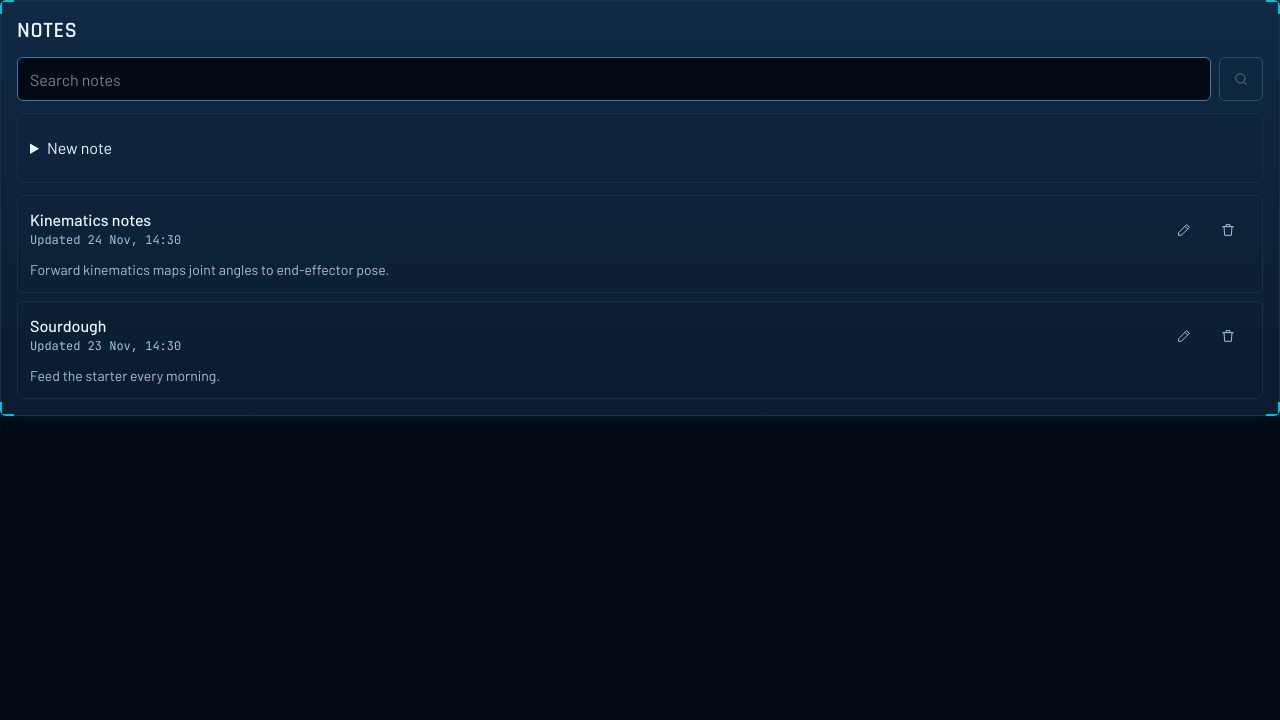
note board (M2-8b) › clearing the search restores the full list
Step 1. Type "kinematics" into the search field labelled "Search notes" → (614, 79), box top-left (17, 57), bottom-right (1211, 101)
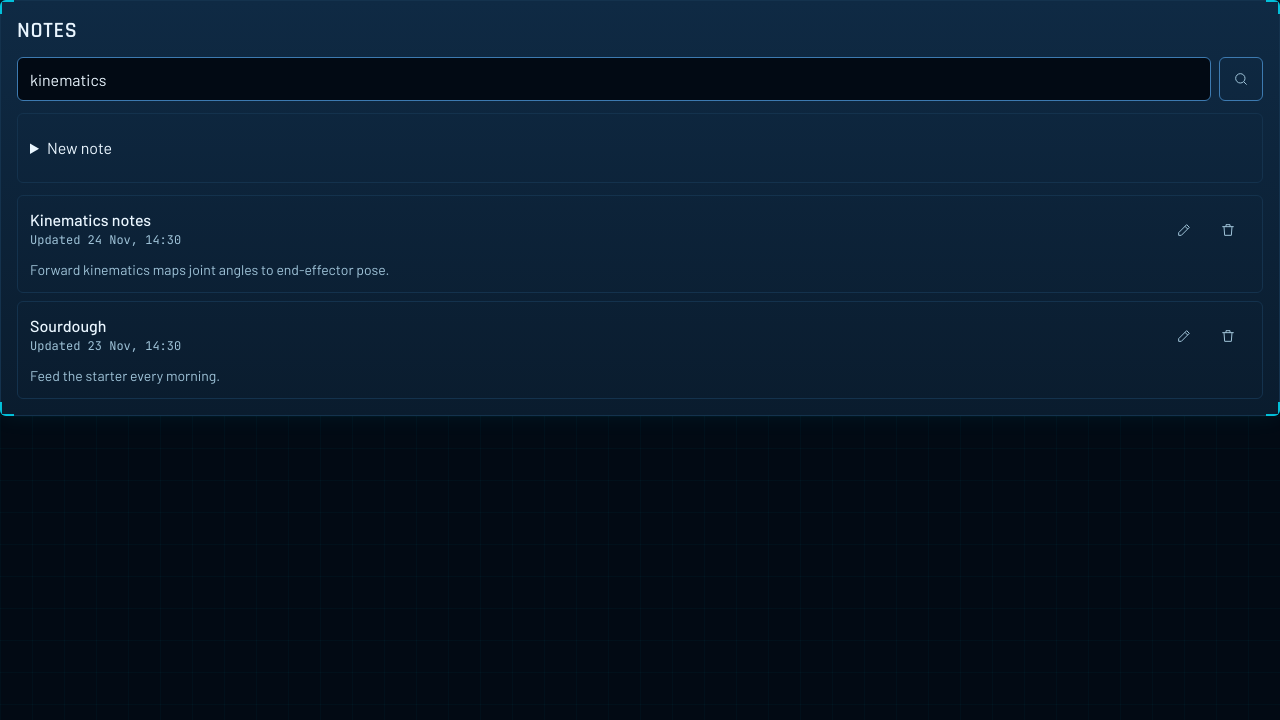
Step 2. Click the button named "Search" → (1241, 79), box top-left (1219, 57), bottom-right (1263, 101)
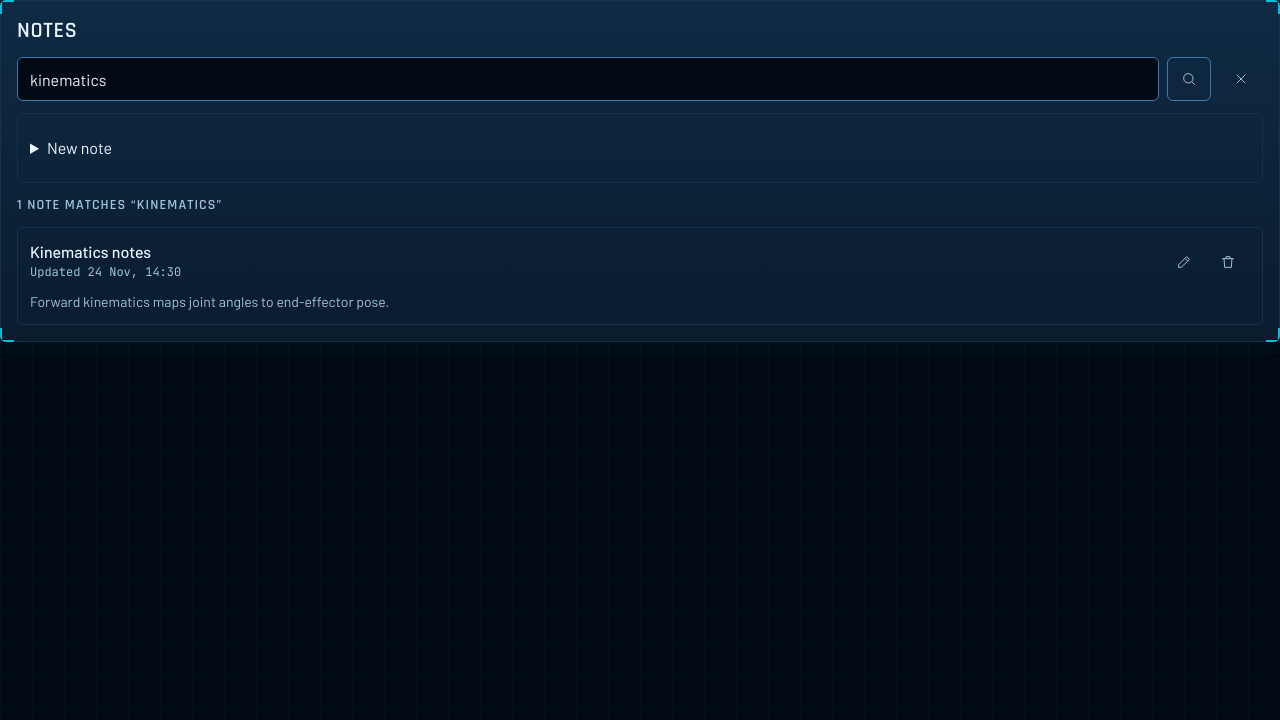
Result: the heading "Sourdough" is gone
Step 3. Click the button named "Clear search" → (1241, 79), box top-left (1219, 57), bottom-right (1263, 101)
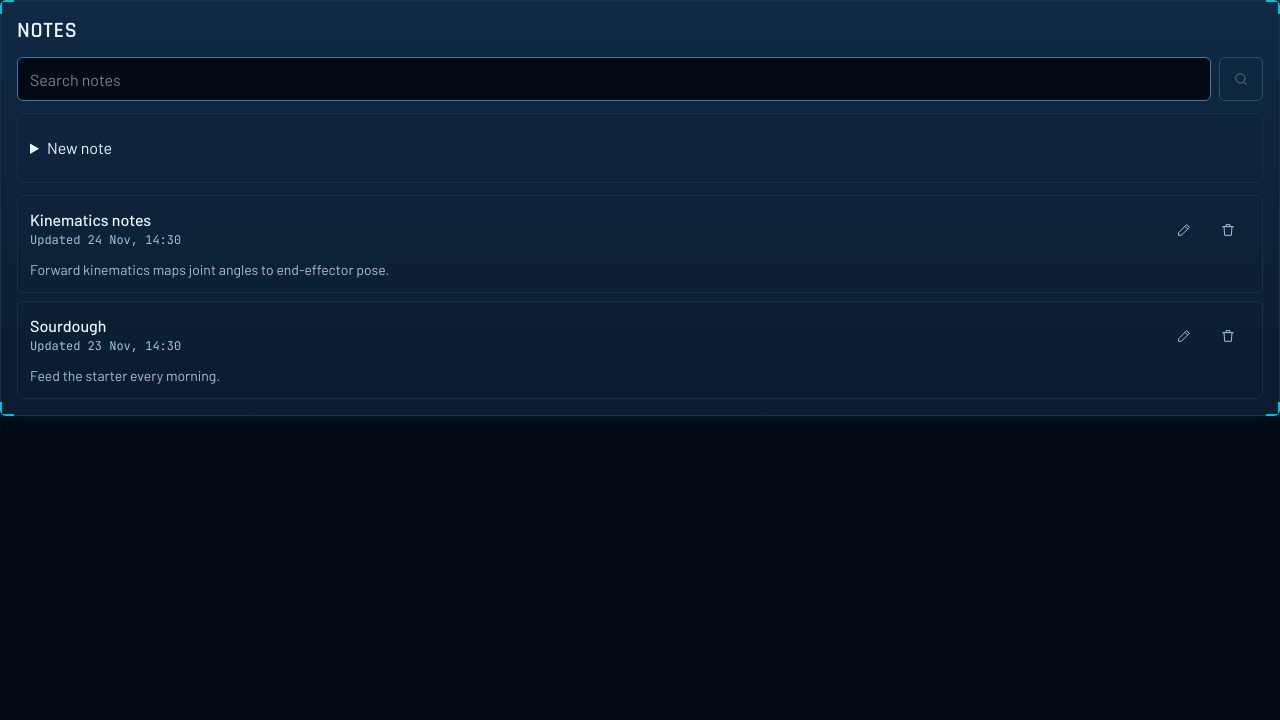
Result: the heading "Sourdough" is shown at top-left (30, 316), bottom-right (106, 335)
